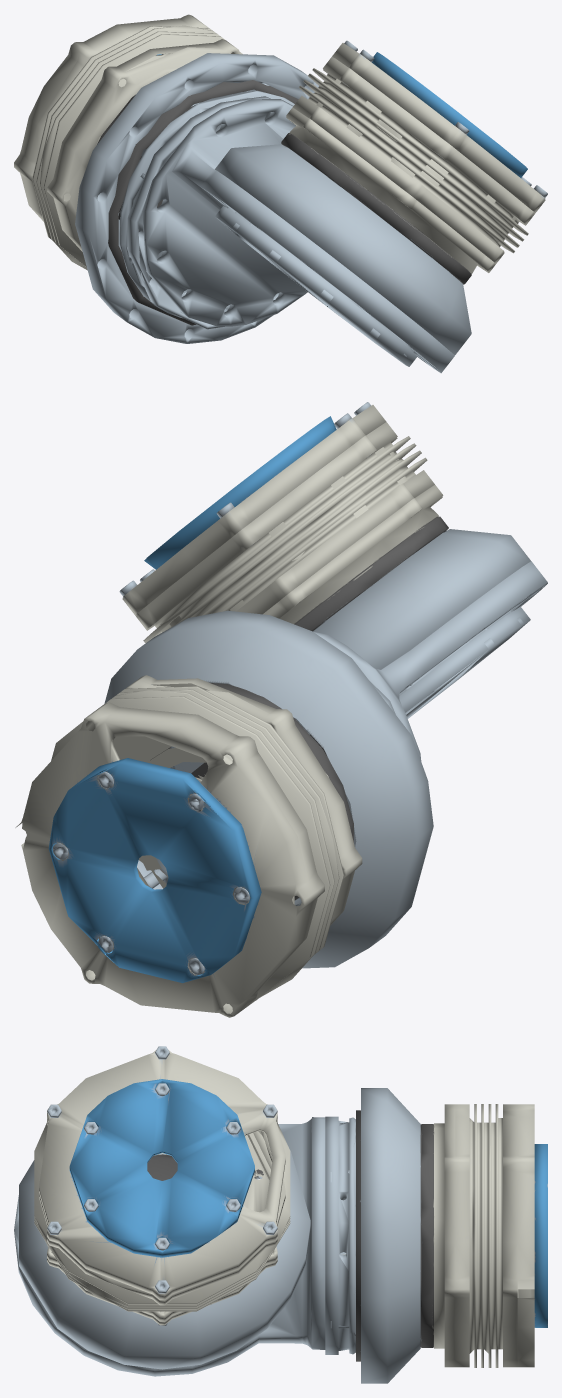
Rendered from legr_hip1_joint.obj.
3 views of the same model, one above another, from view 1: azimuth 30°, elevation 25°; view 2: azimuth 150°, elevation 25°; view 3: azimuth 270°, elevation 25° (orthographic). The views are drawn at different scales.
Bounding box in the file's own units: 0.1431 × 0.1431 × 0.2015.
Materials: 1 (1 with a texture image).
